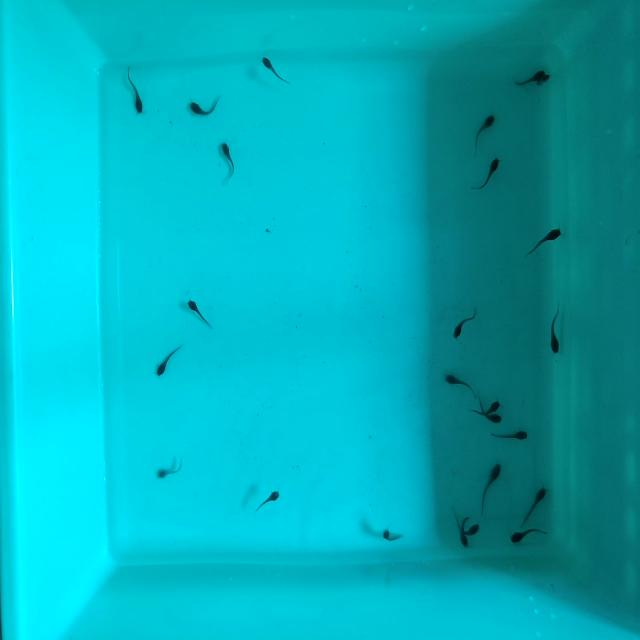lele: (525, 223, 565, 259), (518, 483, 548, 530), (153, 337, 185, 381), (478, 460, 503, 511), (473, 153, 502, 196), (124, 61, 145, 119), (260, 53, 292, 90), (468, 112, 497, 152), (184, 295, 215, 330), (449, 306, 477, 343), (252, 487, 282, 517), (442, 369, 476, 395), (473, 399, 504, 426), (219, 139, 239, 180), (450, 510, 470, 551), (154, 458, 185, 483), (513, 66, 546, 89), (510, 525, 547, 545), (471, 397, 501, 421), (548, 304, 561, 354), (460, 514, 481, 539), (188, 101, 220, 117), (491, 429, 528, 441), (380, 529, 407, 543), (534, 69, 553, 86)
